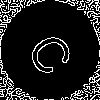C: (25, 25, 84, 80)
